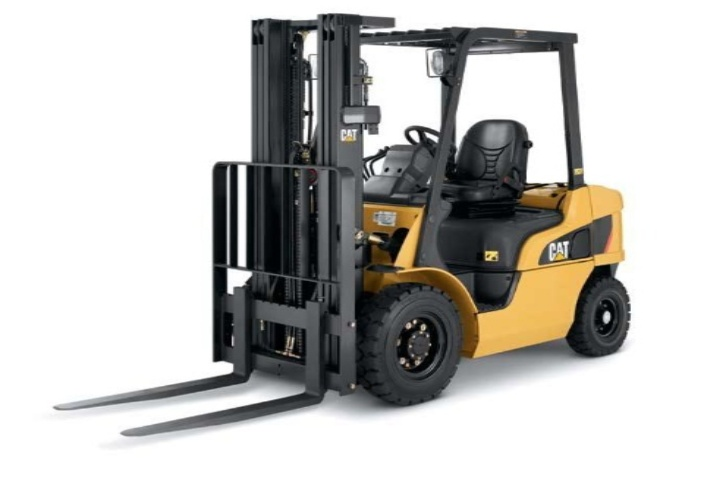industrial: (49, 5, 637, 444)
